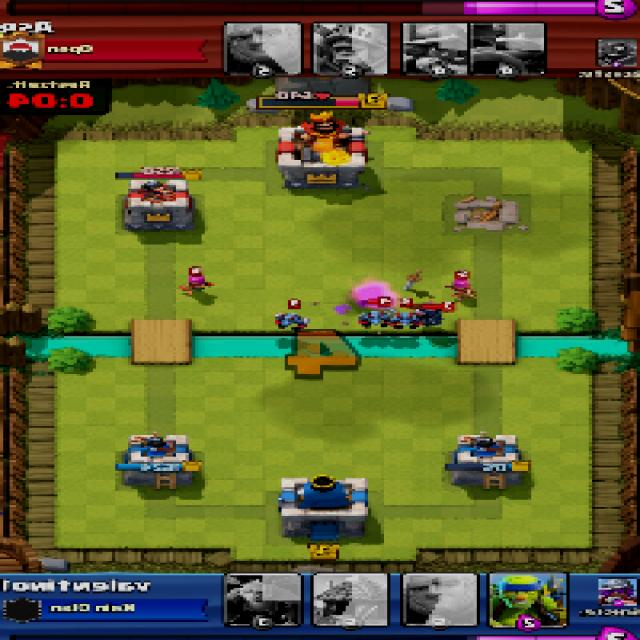Enemy-Archer: (182, 273, 211, 295), (446, 280, 477, 299)
Enemy-MiniPEKKA: (416, 304, 445, 325)
Enemy-Minion: (274, 313, 308, 331), (358, 311, 388, 328), (380, 310, 407, 328)
